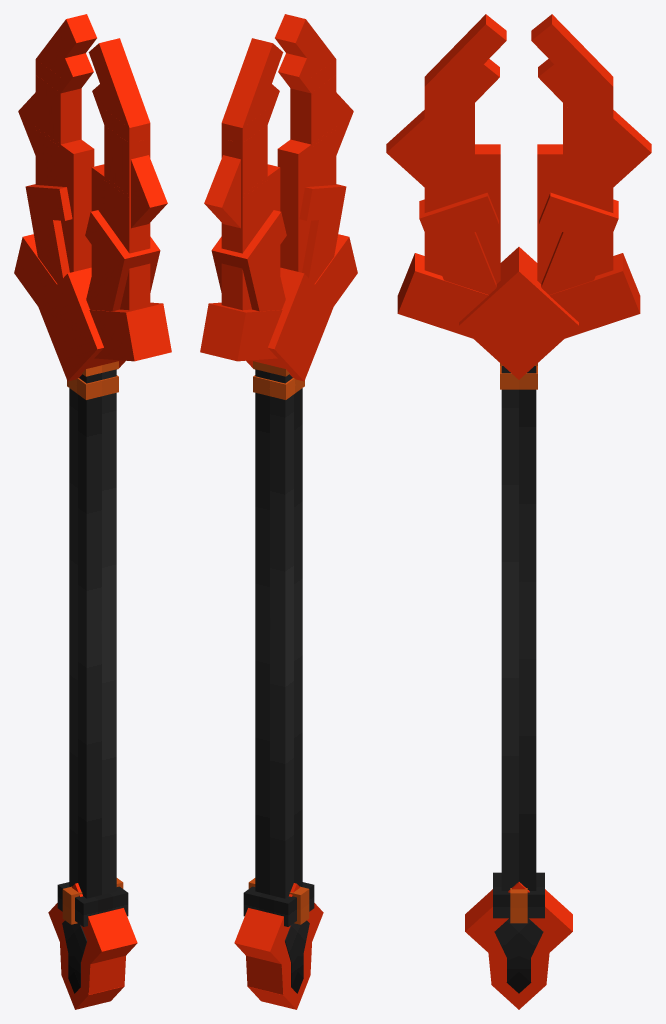
The model's file is MAGMA_PIKE.obj.
3 views of the same model, side by side, from view 1: azimuth 30°, elevation 25°; view 2: azimuth 150°, elevation 25°; view 3: azimuth 270°, elevation 25° (orthographic).
Parts seen in each view (by area): view 1: cube; view 2: cube; view 3: cube.
Part boxes in pixels (x1,y1,x2,y2): cube: (14,14,171,1009); cube: (200,14,357,1009); cube: (386,14,651,1009).
Bounding box in the file's own units: 0.1094 × 1.96 × 0.4786.
5 materials, 5 textured.
